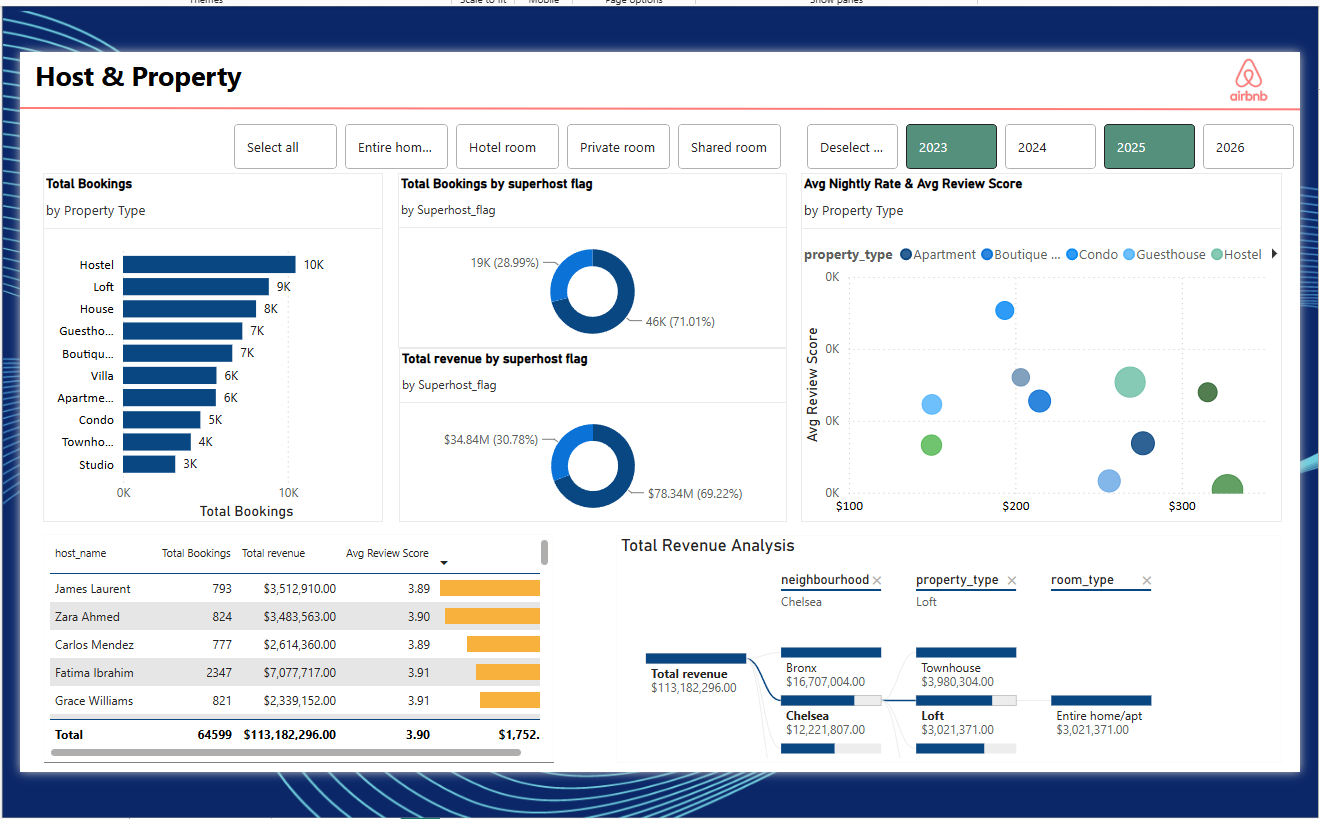

Layout of this report page (visuals, bound fields, positions):
{"tool":"powerbi","page":{"name":"Host & Property","canvas":[1280,720],"ordinal":1},"visuals":[{"type":"shape","box":[23.5,121,339.5,349.4],"z":0},{"type":"shape","box":[24,482.3,510.4,229.2],"z":1000},{"type":"shape","box":[596.3,482.7,665.4,228.4],"z":2000},{"type":"shape","box":[379,121,387.7,349.4],"z":3000},{"type":"shape","box":[781.5,121,480.2,349.4],"z":4000},{"type":"shape","box":[10.2,8,368.2,43.2],"z":5000},{"type":"advancedSlicerVisual","fields":{"Values":["dim_date.year"]},"box":[781.8,67,497.7,54.5],"z":6000},{"type":"advancedSlicerVisual","fields":{"Values":["dim_property.room_type"]},"box":[209.1,67,558,54.5],"z":7000},{"type":"textbox","box":[9.9,0,261.7,50.6],"z":8000},{"type":"barChart","title":"Total Bookings ","fields":{"Y":["Measure Table.Total Bookings"],"Category":["dim_property.property_type"]},"box":[23.5,121,339.5,349.4],"z":9000},{"type":"donutChart","title":"Total Bookings by superhost flag","fields":{"Category":["dim_host.superhost_flag"],"Y":["Measure Table.Total Bookings"]},"box":[377.8,121,388.9,175.3],"z":10000},{"type":"donutChart","title":"Total revenue by superhost flag","fields":{"Y":["Measure Table.Total revenue"],"Category":["dim_host.superhost_flag"]},"box":[379,296.3,387.7,174.1],"z":11000},{"type":"scatterChart","title":"Avg Nightly Rate & Avg Review Score ","fields":{"Series":["dim_property.property_type"],"Size":["Measure Table.Total revenue"],"Y":["Measure Table.Avg Review Score"],"X":["Measure Table.Avg Nightly Rate"]},"box":[781.5,121,480.2,349.4],"z":12000},{"type":"decompositionTreeVisual","title":"Total Revenue Analysis","fields":{"Analyze":["Measure Table.Total revenue"],"ExplainBy":["dim_location.neighbourhood","dim_property.property_type","dim_property.room_type"]},"box":[596.3,482.7,665.4,228.4],"z":13000},{"type":"tableEx","title":"Host Performance","fields":{"Values":["dim_host.host_name","Measure Table.Total Bookings","Measure Table.Total revenue","Measure Table.Avg Review Score","Measure Table.Avg Revenue per Booking"]},"box":[24,482.3,510.4,228.1],"z":14000}]}

Visuals, with their boxes on the page's 1280x720 design canvas (x1, y1, x2, y2). These are canvas units, not pixel positions in the 1320x819 screenshot, which may show the page scaled, cropped or inside an application window:
shape: [x1=24, y1=121, x2=363, y2=470]
shape: [x1=24, y1=482, x2=534, y2=712]
shape: [x1=596, y1=483, x2=1262, y2=711]
shape: [x1=379, y1=121, x2=767, y2=470]
shape: [x1=782, y1=121, x2=1262, y2=470]
shape: [x1=10, y1=8, x2=378, y2=51]
advancedSlicerVisual - dim_date.year: [x1=782, y1=67, x2=1280, y2=122]
advancedSlicerVisual - dim_property.room_type: [x1=209, y1=67, x2=767, y2=122]
textbox: [x1=10, y1=0, x2=272, y2=51]
"Total Bookings " barChart: [x1=24, y1=121, x2=363, y2=470]
"Total Bookings by superhost flag" donutChart: [x1=378, y1=121, x2=767, y2=296]
"Total revenue by superhost flag" donutChart: [x1=379, y1=296, x2=767, y2=470]
"Avg Nightly Rate & Avg Review Score " scatterChart: [x1=782, y1=121, x2=1262, y2=470]
"Total Revenue Analysis" decompositionTreeVisual: [x1=596, y1=483, x2=1262, y2=711]
"Host Performance" tableEx: [x1=24, y1=482, x2=534, y2=710]
